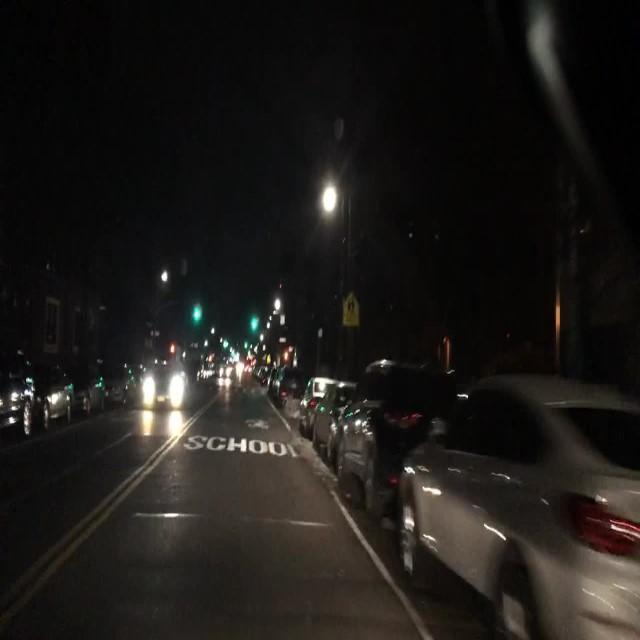normal: (312, 380, 357, 456)
